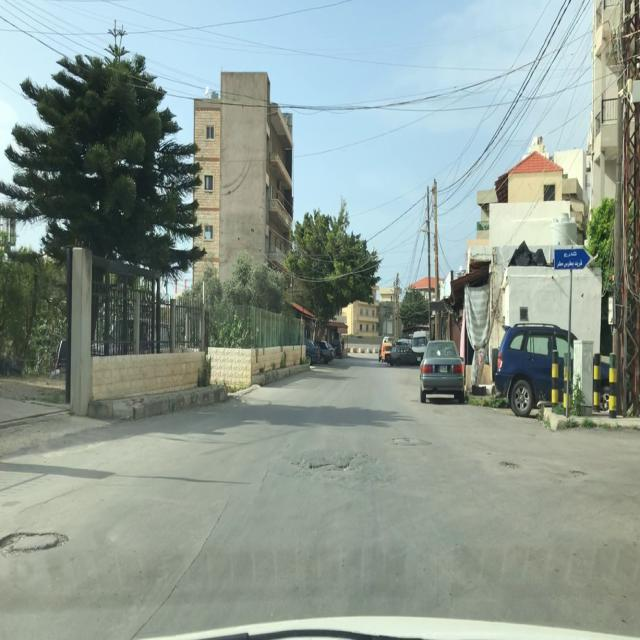Pothole: (0, 530, 70, 557), (306, 452, 368, 475), (390, 436, 432, 449), (568, 465, 588, 481), (499, 459, 520, 470)
